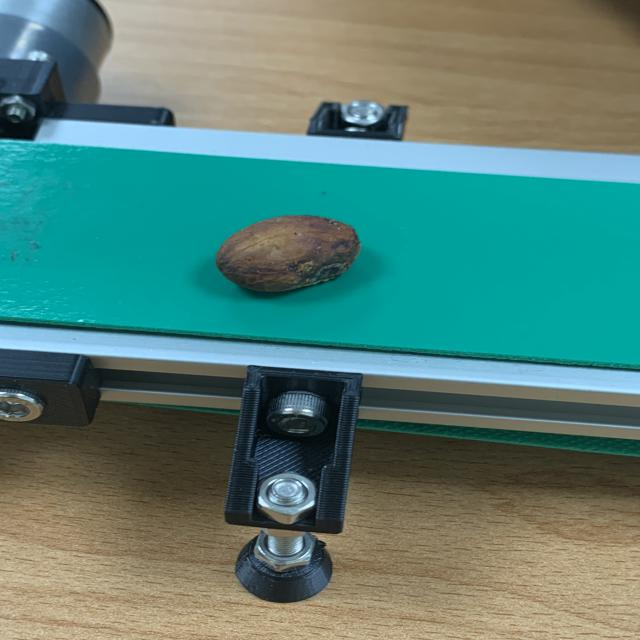Fine_cocoabeans: (164, 202, 461, 316)
